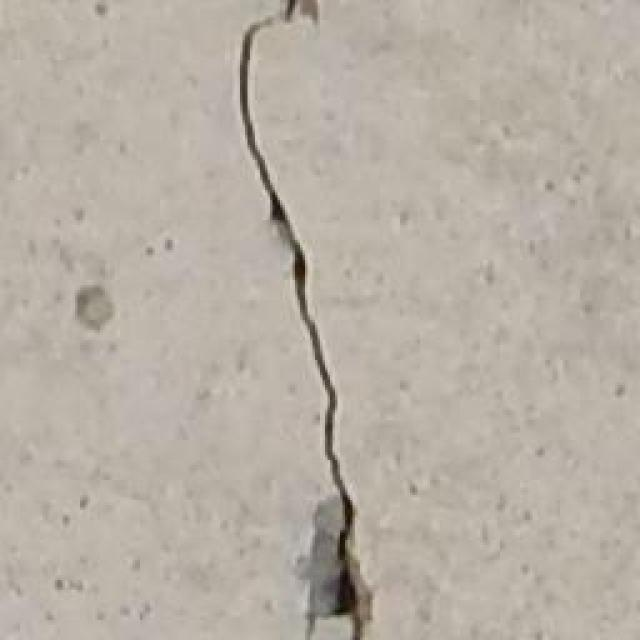concrete-crack: (235, 0, 375, 640)
